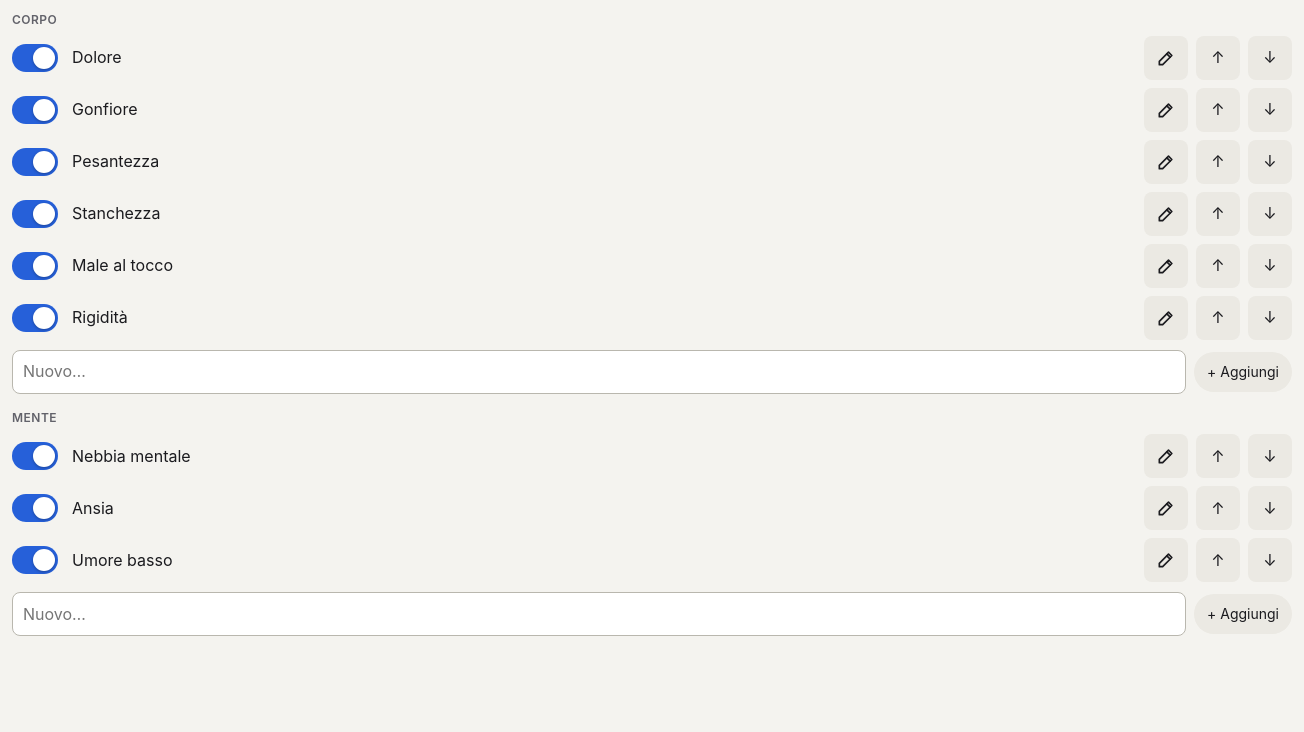
Vocabulary editor: symptoms › renames on Enter: the typed word replaces the name, in every language
Click the button "Gonfiore" at (105, 109), box [66,97,1136,123]
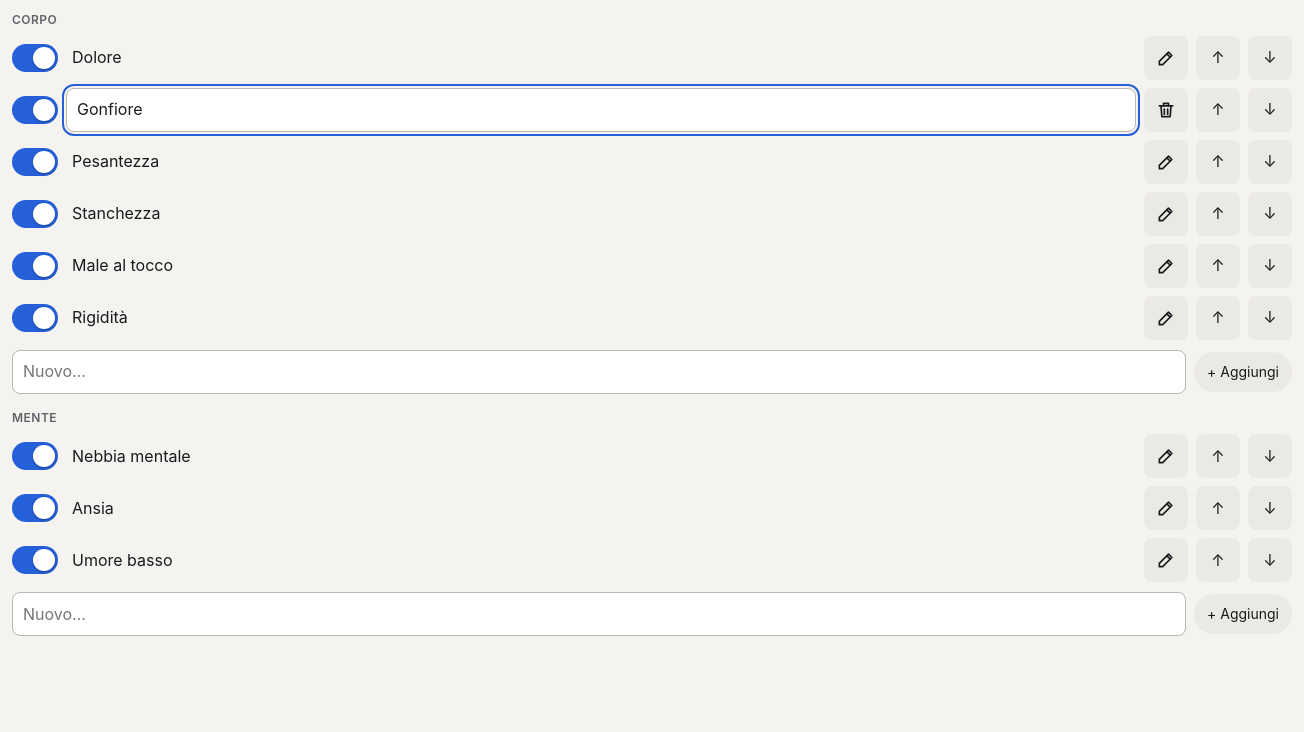
Replace the text in the field showing "Gonfiore" with " Edema " at (601, 110), box [66,88,1136,132]
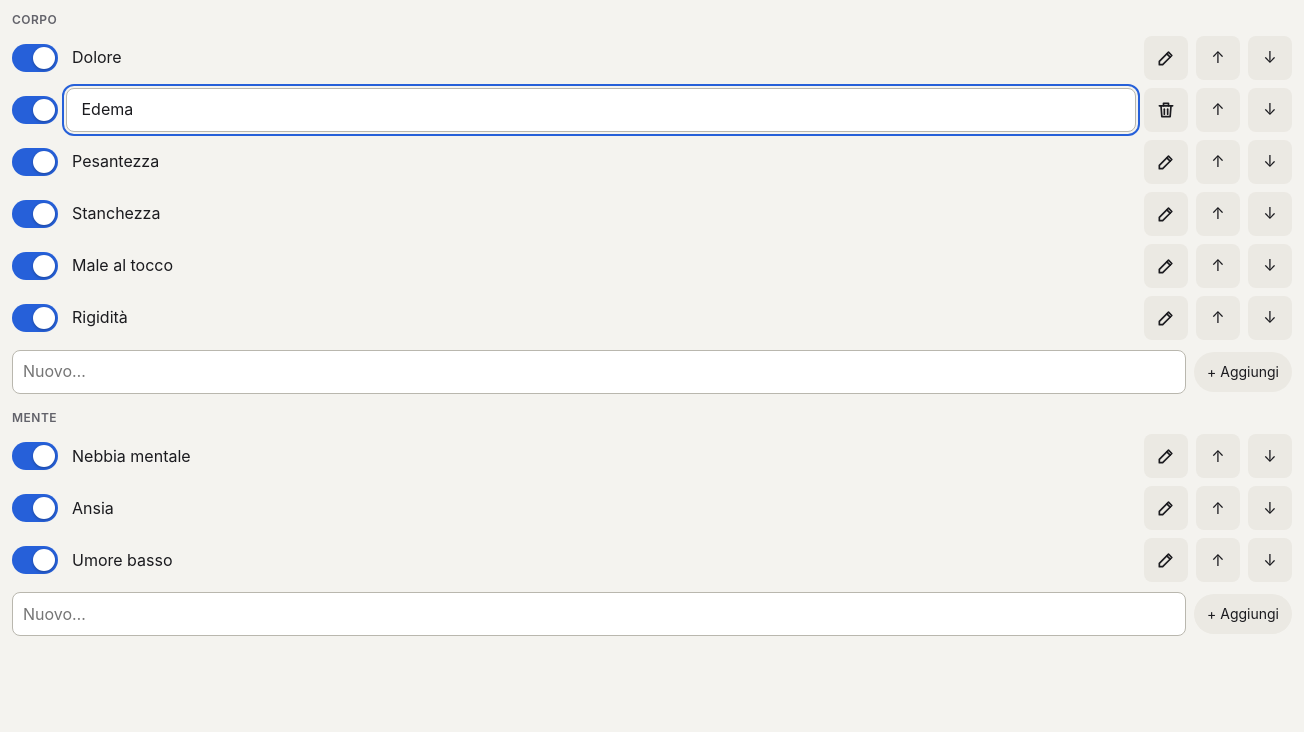
Press Enter in the field showing "Gonfiore", box [66,88,1136,132]
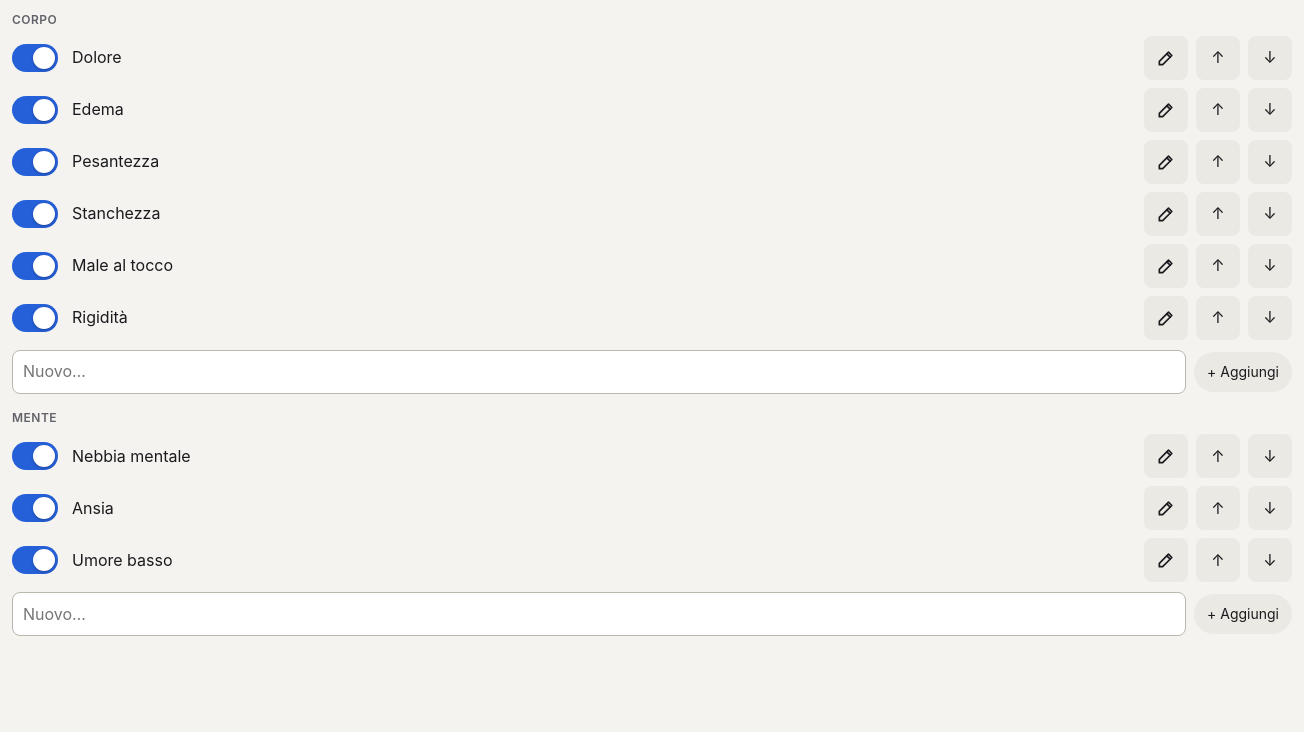
expect the button "Edema" is shown: met, box [66,97,1136,123]
expect the button with class "name" reads "Edema": met, box [66,97,1136,123]
